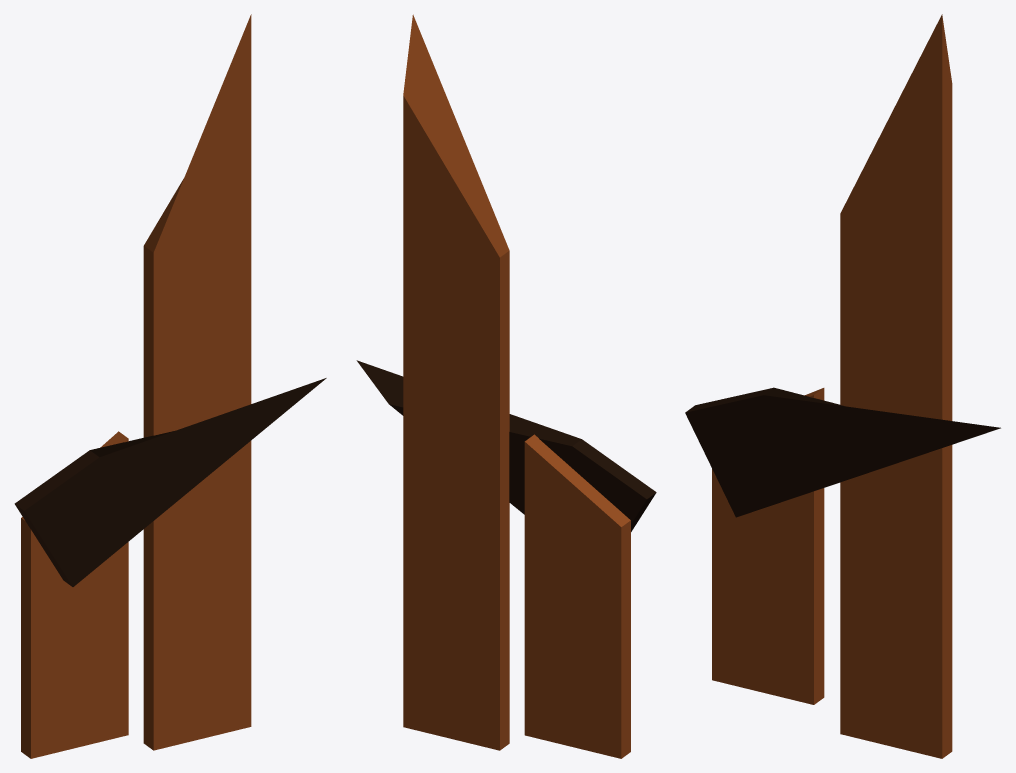
The model's file is wooden_wall_center_des1.FBX.
The picture shows the model from 3 angles, left to right: view 1: azimuth 30°, elevation 25°; view 2: azimuth 150°, elevation 25°; view 3: azimuth 330°, elevation 25°; orthographic projection. The views are drawn at different scales.
Parts seen in each view (by area): view 1: Quader026, Quader025, Quader027; view 2: Quader026, Quader025, Quader027; view 3: Quader026, Quader025, Quader027.
Part boxes in pixels (x1,y1,x2,y2): Quader026: [143, 14, 251, 750]; Quader025: [21, 431, 128, 758]; Quader027: [14, 378, 326, 586]; Quader026: [403, 14, 509, 750]; Quader025: [524, 434, 630, 758]; Quader027: [356, 360, 656, 531]; Quader026: [840, 14, 952, 758]; Quader025: [712, 388, 824, 704]; Quader027: [685, 387, 1000, 517].
Size of the model in its own units: 0.000322 by 3.57e-05 by 0.000724.
